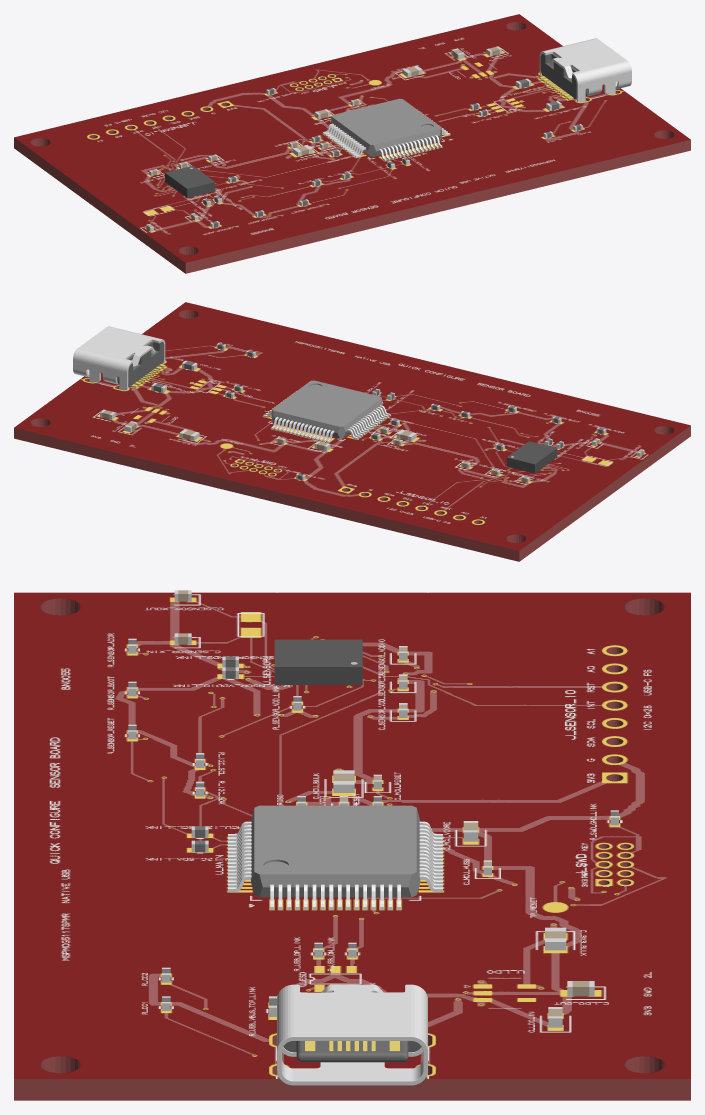
3 views of the same model, one above another, from view 1: azimuth 30°, elevation 25°; view 2: azimuth 150°, elevation 25°; view 3: azimuth 270°, elevation 25° (orthographic). The views are drawn at different scales.
Parts seen in each view (by area): view 1: Box0, U_MAIN, J_USB, U_SENSOR; view 2: Box0, U_MAIN, J_USB, U_SENSOR; view 3: Box0, U_MAIN, J_USB, U_SENSOR.
Part boxes in pixels (left/top/right/bottom): Box0: left=14, top=14, right=690, bottom=273; U_MAIN: left=322, top=98, right=450, bottom=161; J_USB: left=539, top=38, right=631, bottom=102; U_SENSOR: left=165, top=166, right=215, bottom=197; Box0: left=14, top=302, right=690, bottom=561; U_MAIN: left=263, top=380, right=390, bottom=442; J_USB: left=73, top=326, right=165, bottom=390; U_SENSOR: left=506, top=441, right=557, bottom=473; Box0: left=14, top=592, right=690, bottom=1100; U_MAIN: left=228, top=805, right=442, bottom=909; J_USB: left=277, top=984, right=427, bottom=1085; U_SENSOR: left=274, top=639, right=362, bottom=684.
Size of the model in its own units: 69.04 by 4.65 by 40.
Materials: 15 (2 with a texture image).
